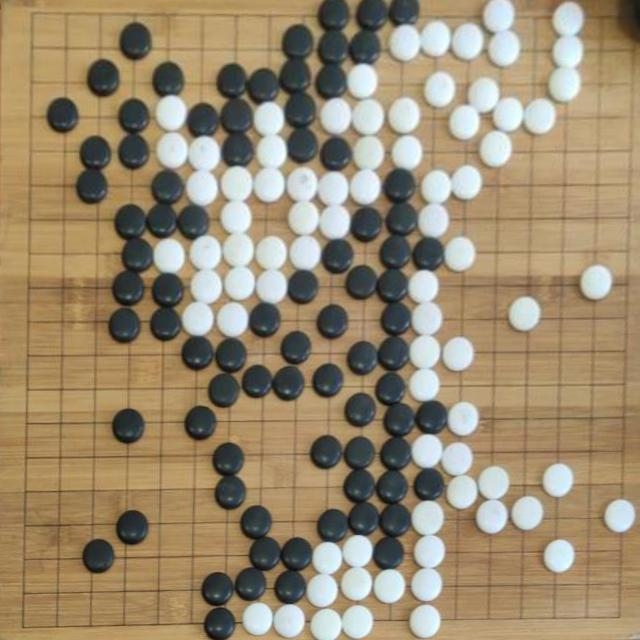blackstone: (108, 307, 142, 344), (112, 269, 146, 306), (248, 536, 282, 572), (114, 204, 148, 240), (220, 97, 254, 133), (284, 91, 317, 128), (120, 22, 152, 60), (151, 170, 185, 205), (112, 408, 145, 444), (116, 510, 149, 546), (76, 169, 109, 205), (150, 306, 183, 342), (177, 204, 210, 240), (321, 239, 354, 275), (379, 501, 412, 537), (376, 268, 409, 304), (146, 202, 179, 238), (247, 68, 280, 104), (287, 127, 320, 163), (88, 59, 120, 96), (79, 135, 112, 170), (152, 272, 185, 307), (215, 338, 248, 373), (345, 264, 378, 299), (383, 402, 415, 438), (348, 501, 380, 537), (118, 134, 150, 170), (122, 236, 154, 272), (82, 539, 115, 573), (152, 62, 185, 96), (317, 509, 350, 543), (235, 568, 268, 602), (274, 570, 307, 604), (203, 607, 237, 640), (187, 102, 220, 136), (383, 168, 416, 202), (348, 30, 381, 64), (222, 132, 255, 166), (279, 58, 312, 92), (208, 373, 240, 408), (312, 363, 344, 398), (344, 392, 376, 427), (213, 442, 245, 477), (273, 365, 305, 400), (182, 336, 214, 371), (250, 303, 282, 338), (118, 98, 150, 133), (344, 467, 376, 502), (350, 207, 382, 242), (380, 436, 412, 471), (315, 64, 347, 99), (380, 233, 412, 268), (373, 536, 404, 572), (240, 505, 273, 538), (412, 237, 445, 270), (185, 406, 217, 440), (310, 434, 342, 468), (47, 98, 79, 132), (317, 304, 349, 338), (202, 572, 234, 606), (281, 537, 313, 571), (346, 342, 378, 376), (416, 400, 448, 434), (344, 436, 376, 470), (288, 270, 320, 304), (376, 469, 408, 503), (378, 336, 410, 370), (282, 24, 314, 58), (320, 137, 352, 171), (375, 372, 407, 406), (380, 302, 412, 336), (386, 202, 418, 236), (318, 30, 350, 64), (217, 63, 248, 98), (215, 476, 247, 509), (280, 331, 312, 364), (242, 364, 273, 398), (356, 0, 389, 30), (414, 468, 444, 500), (318, 0, 350, 30), (388, 0, 420, 26)
whitestone: (388, 24, 422, 61), (547, 67, 582, 102), (579, 264, 613, 300), (488, 30, 522, 66), (479, 130, 513, 166), (190, 269, 224, 305), (156, 132, 190, 168), (186, 170, 220, 206), (189, 234, 223, 270), (508, 296, 542, 331), (442, 337, 476, 372), (410, 568, 444, 603), (222, 232, 256, 267), (446, 474, 479, 510), (524, 98, 557, 134), (242, 601, 275, 637), (274, 603, 307, 639), (374, 569, 407, 605), (341, 567, 374, 603), (217, 302, 250, 338), (182, 301, 215, 337), (388, 97, 421, 133), (224, 266, 257, 302), (318, 203, 351, 239), (452, 22, 484, 59), (468, 76, 500, 113), (542, 539, 576, 573), (542, 463, 575, 498), (512, 496, 545, 531), (476, 499, 509, 534), (412, 500, 445, 535), (306, 573, 339, 608), (256, 268, 289, 303), (604, 498, 636, 534), (448, 401, 480, 437), (444, 236, 476, 272), (424, 71, 456, 107), (154, 237, 186, 273), (156, 95, 188, 131), (320, 98, 352, 134), (350, 168, 382, 204), (352, 98, 384, 134), (420, 20, 451, 57), (409, 604, 442, 638), (552, 2, 585, 36), (413, 534, 446, 568), (408, 368, 441, 402), (409, 334, 442, 368), (253, 101, 286, 135), (220, 200, 253, 234), (478, 465, 510, 500), (342, 605, 374, 640), (449, 105, 481, 140), (420, 169, 452, 204), (418, 202, 450, 237), (255, 235, 288, 268), (221, 167, 254, 200), (189, 135, 222, 168), (442, 442, 474, 476), (309, 608, 343, 640), (412, 434, 444, 468), (311, 541, 343, 575), (492, 98, 524, 132), (412, 301, 444, 335), (391, 135, 423, 169), (288, 200, 320, 234), (290, 235, 322, 269), (254, 168, 286, 202), (353, 134, 385, 168), (256, 133, 288, 167), (317, 172, 349, 206), (287, 166, 319, 200), (451, 164, 482, 199), (483, 0, 516, 32), (342, 535, 374, 568), (408, 270, 440, 303), (347, 64, 378, 98), (552, 36, 584, 68)
